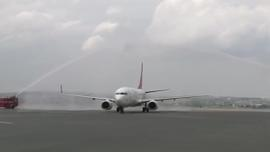aircraft: (59, 61, 191, 112)
